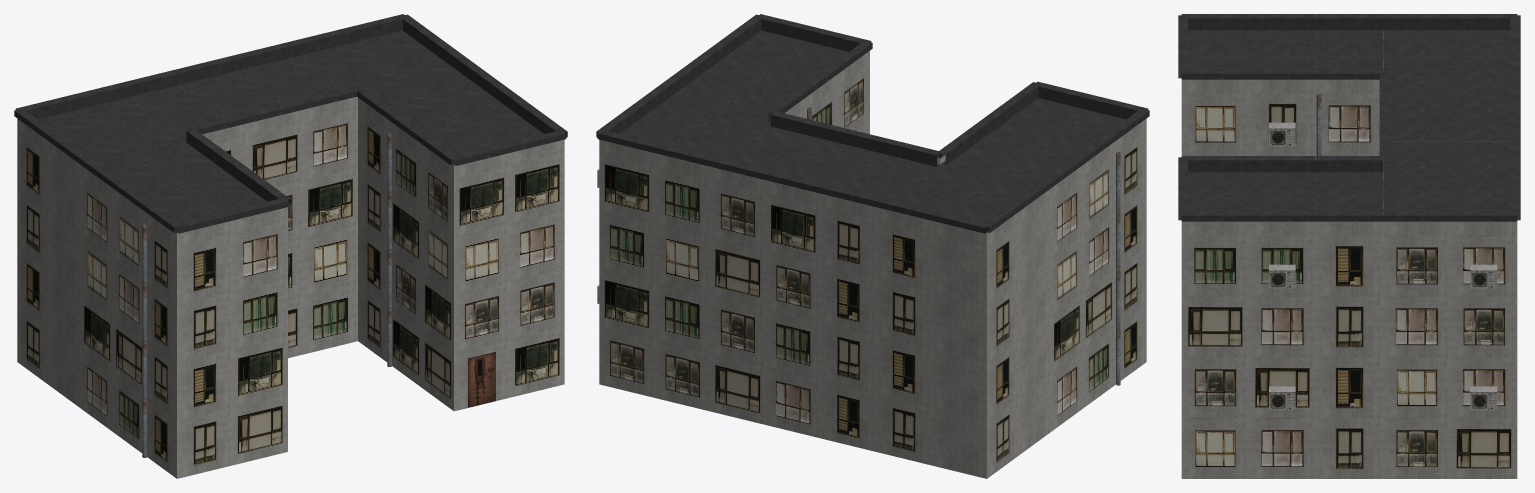
The model's file is Alex_GreyCourtyard_Model.fbx.
3 views of the same model, side by side, from view 1: azimuth 30°, elevation 25°; view 2: azimuth 150°, elevation 25°; view 3: azimuth 270°, elevation 25° (orthographic). The views are drawn at different scales.
Visible parts, largest first — view 1: Alex_GreyCourtyard_Part01, Alex_GreyCourtyard_Part00; view 2: Alex_GreyCourtyard_Part01, Alex_GreyCourtyard_Part00; view 3: Alex_GreyCourtyard_Part01, Alex_GreyCourtyard_Part00.
Boxes of the visible parts, <box> form: Alex_GreyCourtyard_Part01: <box>14,14,567,478</box>; Alex_GreyCourtyard_Part00: <box>38,30,543,457</box>; Alex_GreyCourtyard_Part01: <box>596,14,1149,478</box>; Alex_GreyCourtyard_Part00: <box>597,30,1125,385</box>; Alex_GreyCourtyard_Part01: <box>1178,14,1520,478</box>; Alex_GreyCourtyard_Part00: <box>1188,30,1510,410</box>.
Bounding box in the file's own units: 20.37 × 12.18 × 14.28.
